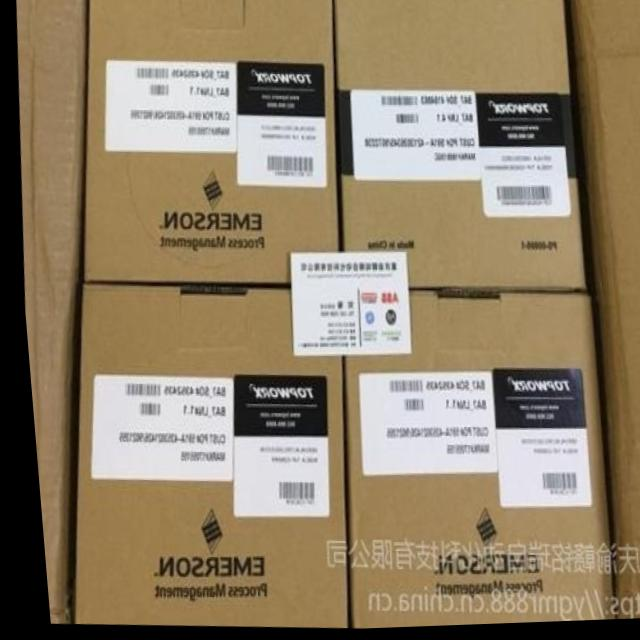box: (65, 282, 339, 631), (339, 294, 603, 630), (79, 0, 339, 289), (334, 0, 581, 295)
